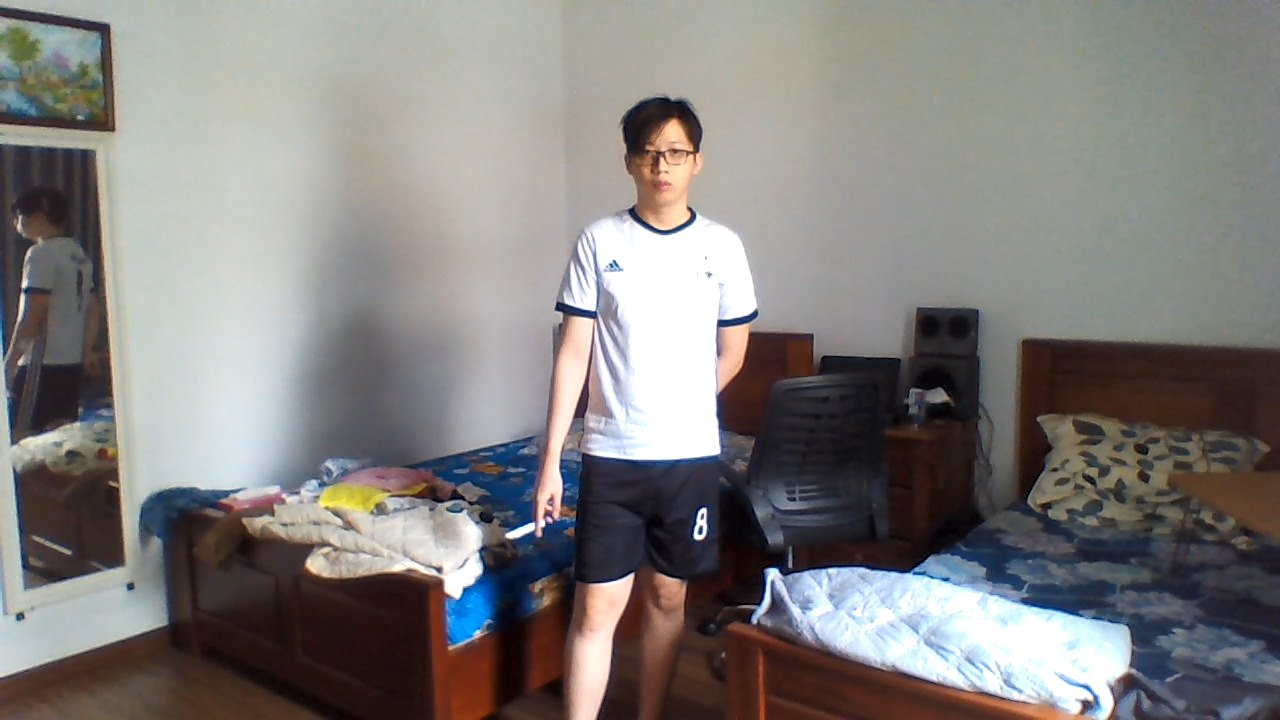cigarette: (506, 521, 543, 542)
person: (539, 86, 769, 720)
